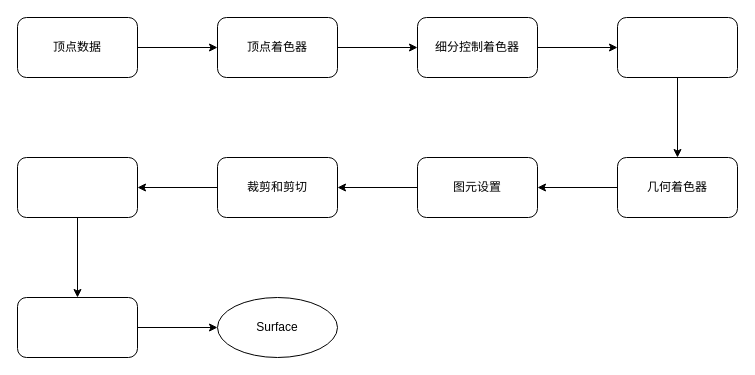
Image size: 755x375. Some labels were removed from this diagram. Here are the shapes that lost their labels. From the top down, the centre of each, then its label:
At point (677, 47): "细分计算着色器".
At point (77, 187): "光栅化".
At point (77, 327): "片元着色器".
